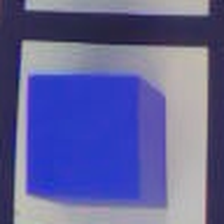cube: (19, 65, 179, 216)
